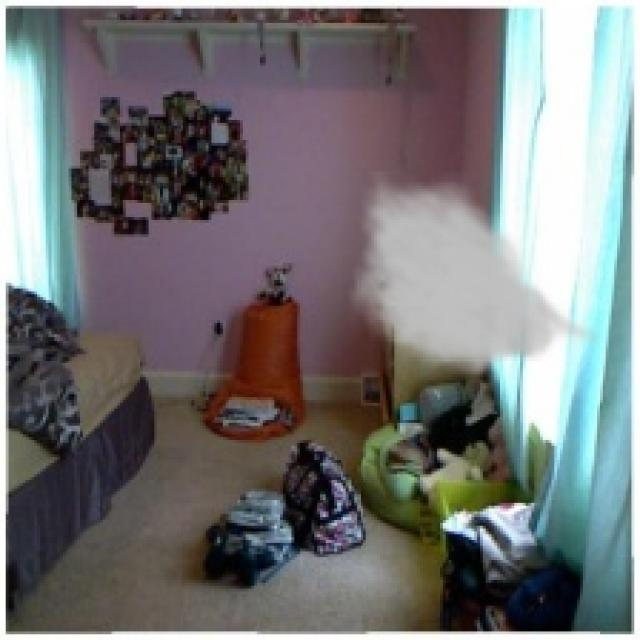smoke: (348, 168, 606, 386)
